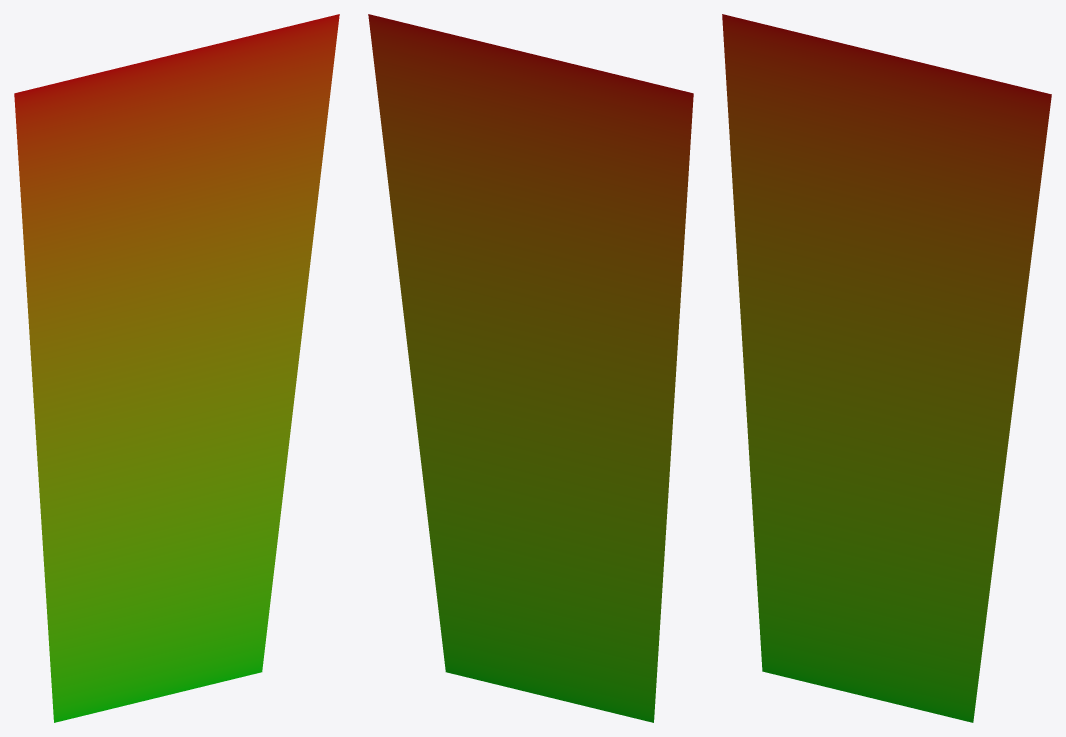
File: Mustard_LOD3_Var1_tbeqdbzr.fbx
3 renders of one model, left to right at view 1: azimuth 30°, elevation 25°; view 2: azimuth 150°, elevation 25°; view 3: azimuth 330°, elevation 25°, orthographic.
Parts seen in each view (by area): view 1: _8a66_Var1_LOD3; view 2: _8a66_Var1_LOD3; view 3: _8a66_Var1_LOD3.
Boxes of the visible parts, x1=… form: _8a66_Var1_LOD3: x1=14, y1=14, x2=339, y2=722; _8a66_Var1_LOD3: x1=368, y1=14, x2=693, y2=722; _8a66_Var1_LOD3: x1=722, y1=14, x2=1051, y2=722.
Bounding box in the file's own units: 25.61 × 48.06 × 7.63e-06.
